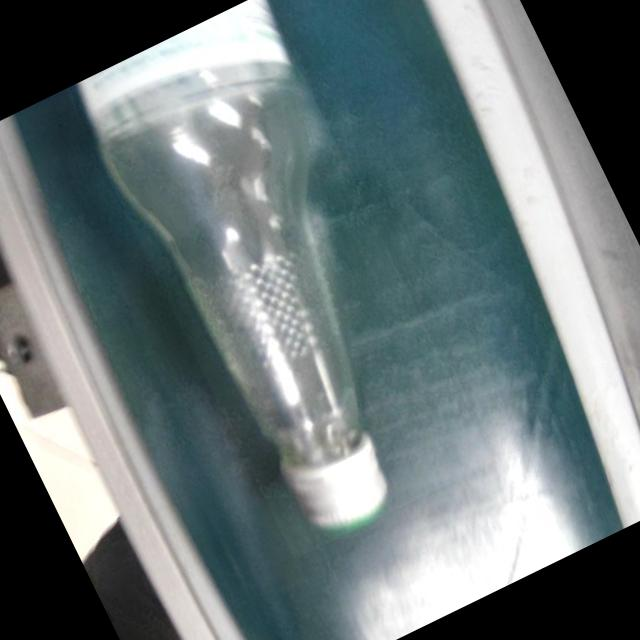BotolPlastik: (65, 0, 497, 558)
